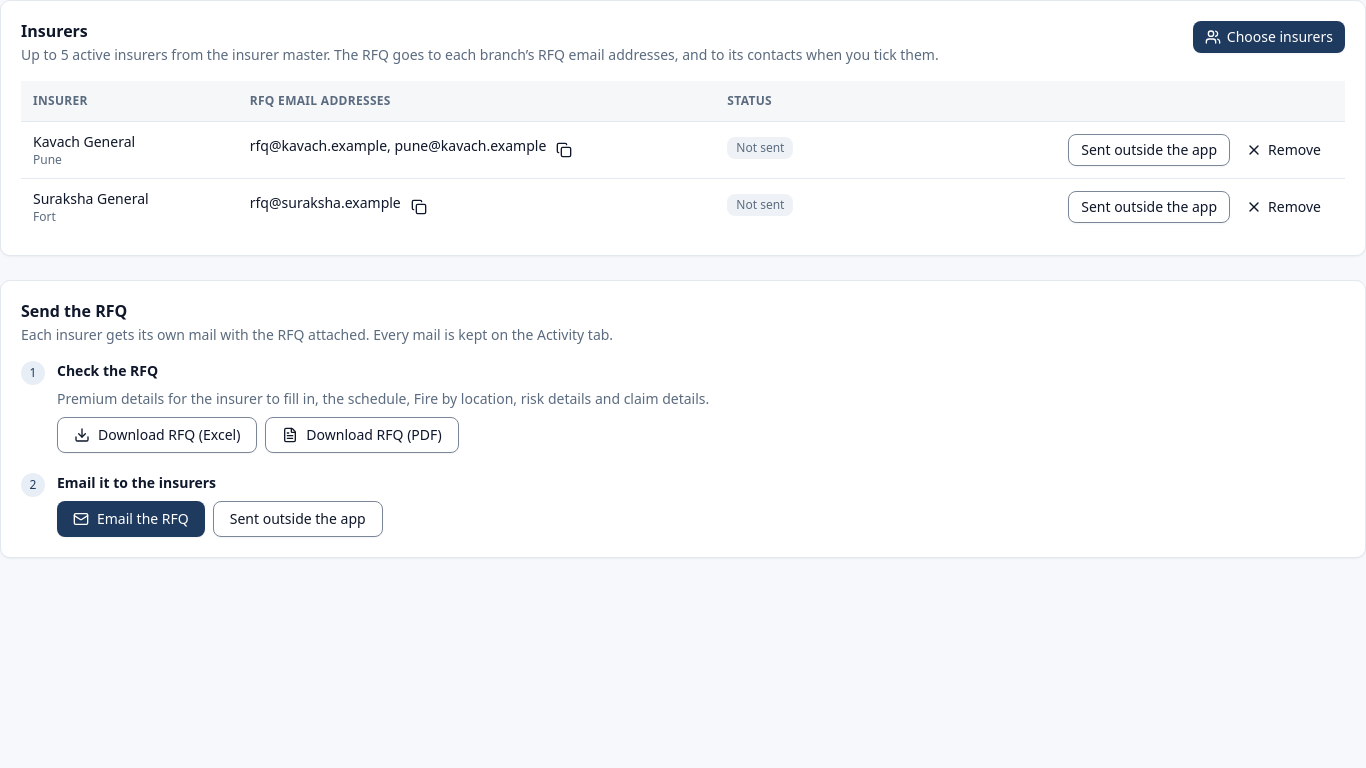
Email the RFQ › falls back to marking it sent when mail is off
The image size is (1366, 768).
Click the button "Email the RFQ": click(131, 518) [57,500,205,536]
(page scrolled)
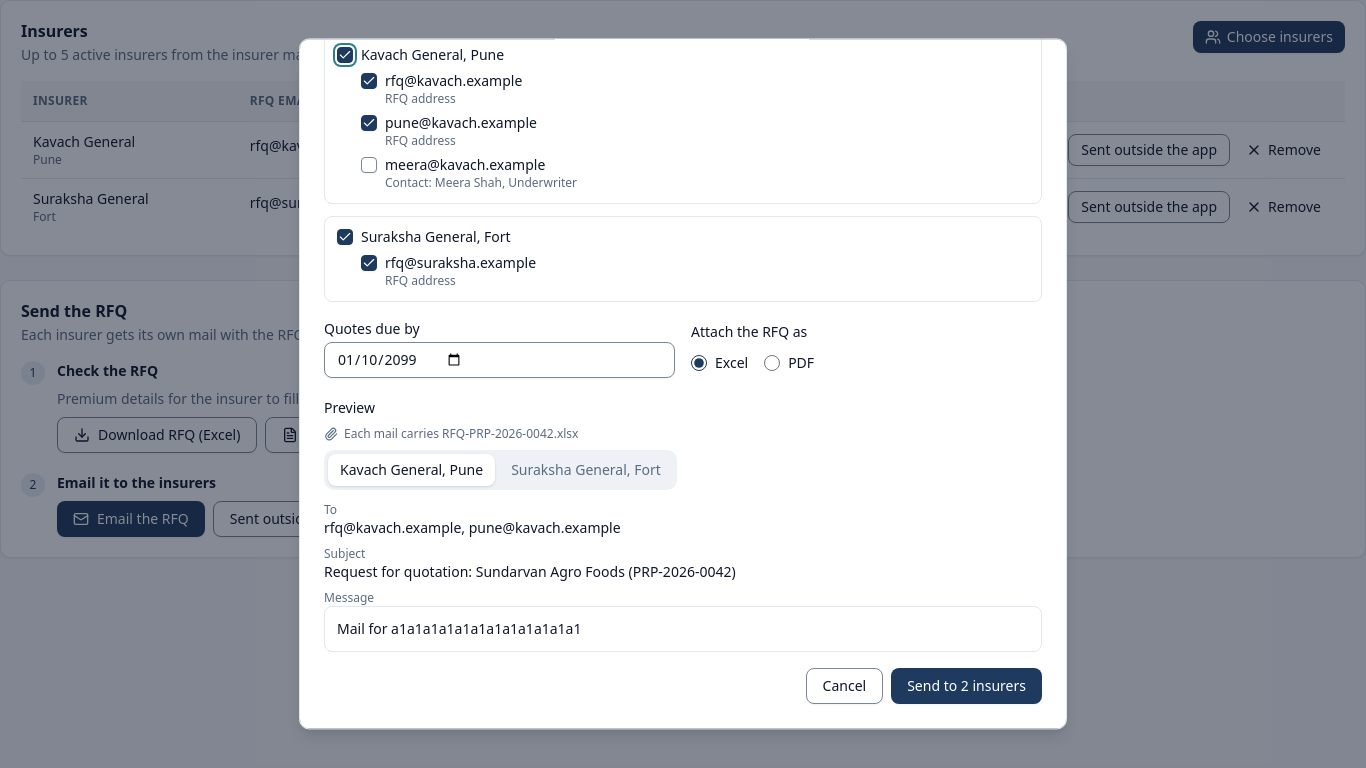
Click the button "Send to 2 insurers": click(967, 686) [891,668,1042,704]
(page scrolled)
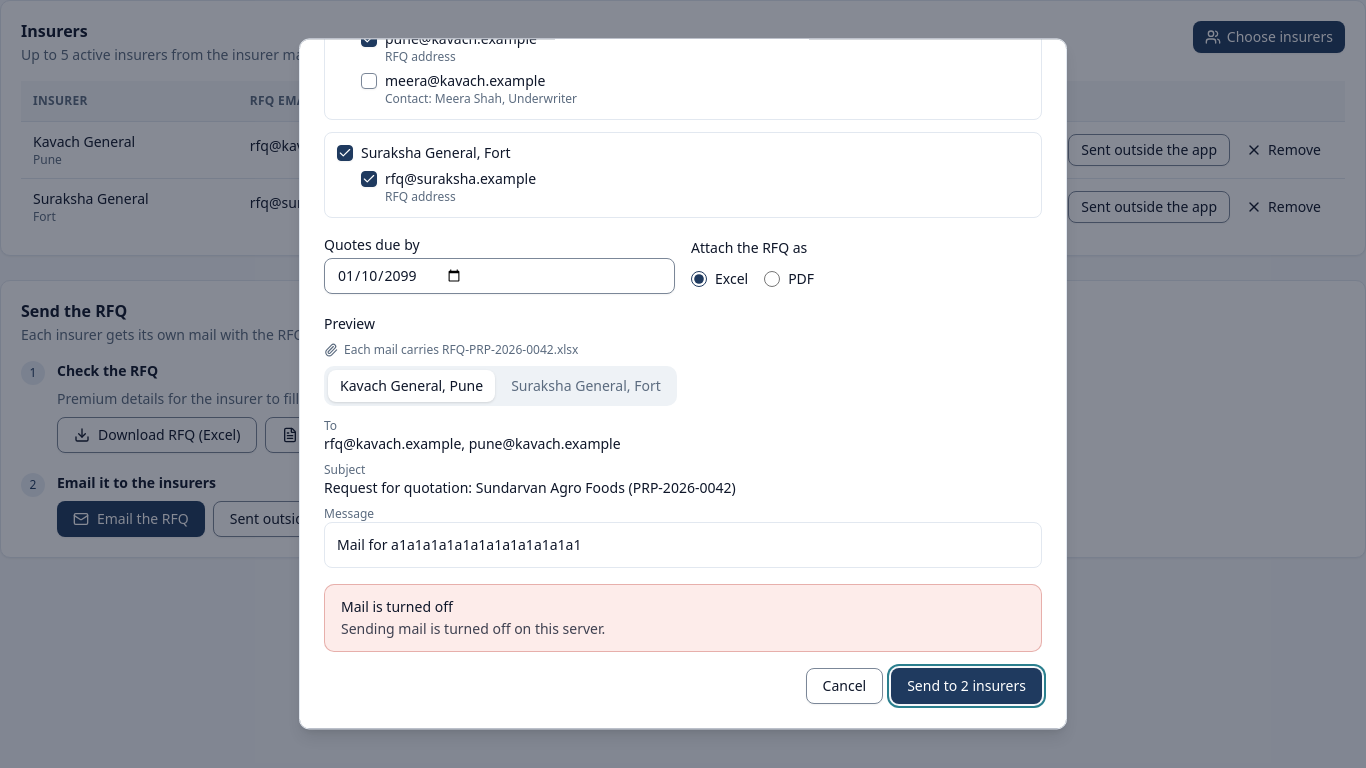
Expected: the text "Mail is turned off" is shown, [341,597,453,616]
Click the button "Cancel": click(844, 686) [806,668,883,704]
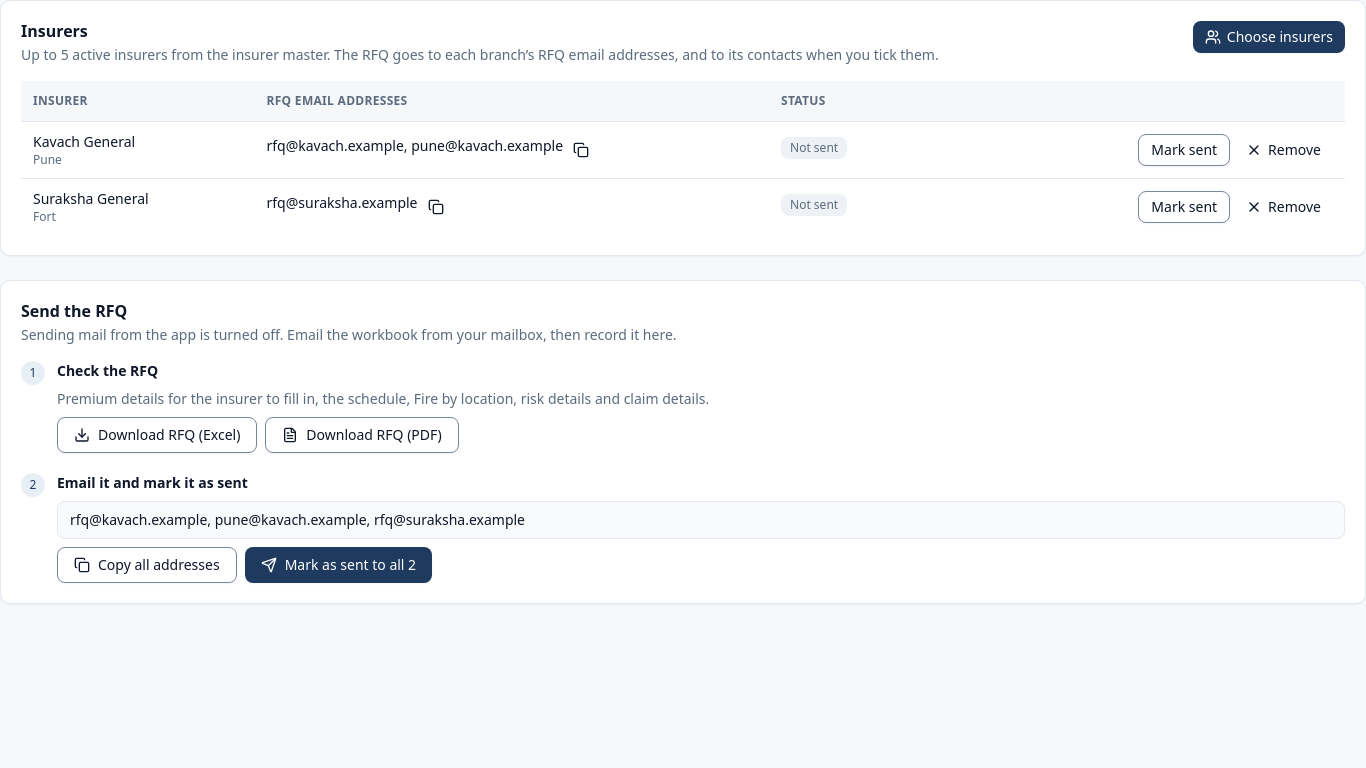
Expected: the button "Mark as sent to all 2" is shown, [245,546,432,582]
Expected: the button "Email the RFQ" is gone
